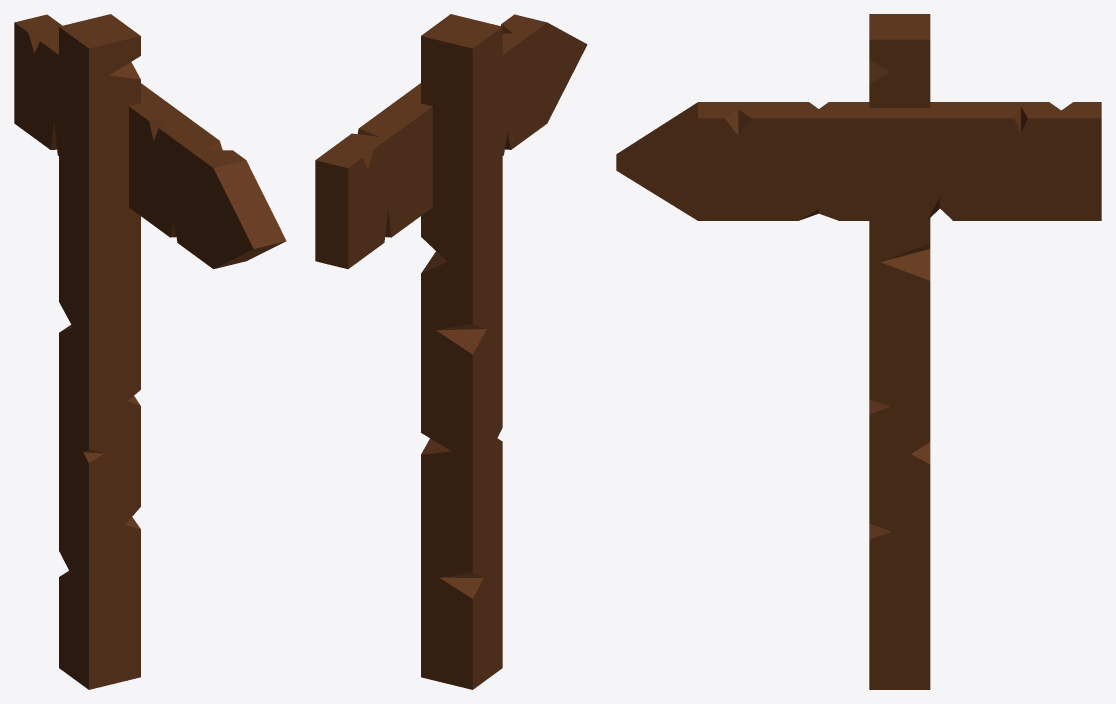
File: Waysign.glb
3 renders of one model, left to right at view 1: azimuth 30°, elevation 25°; view 2: azimuth 150°, elevation 25°; view 3: azimuth 270°, elevation 25°, orthographic.
Parts seen in each view (by area): view 1: Waysign; view 2: Waysign; view 3: Waysign.
Boxes of the visible parts, x1,y1,x2,y2 form: Waysign: (14, 14, 286, 689); Waysign: (315, 14, 587, 689); Waysign: (616, 14, 1101, 689).
Size of the model in its own units: 0.4223 by 3.55 by 2.4.
